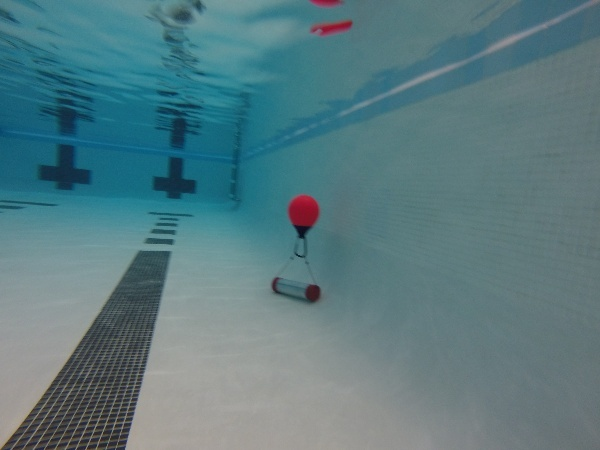buoy_red: (285, 193, 322, 241)
